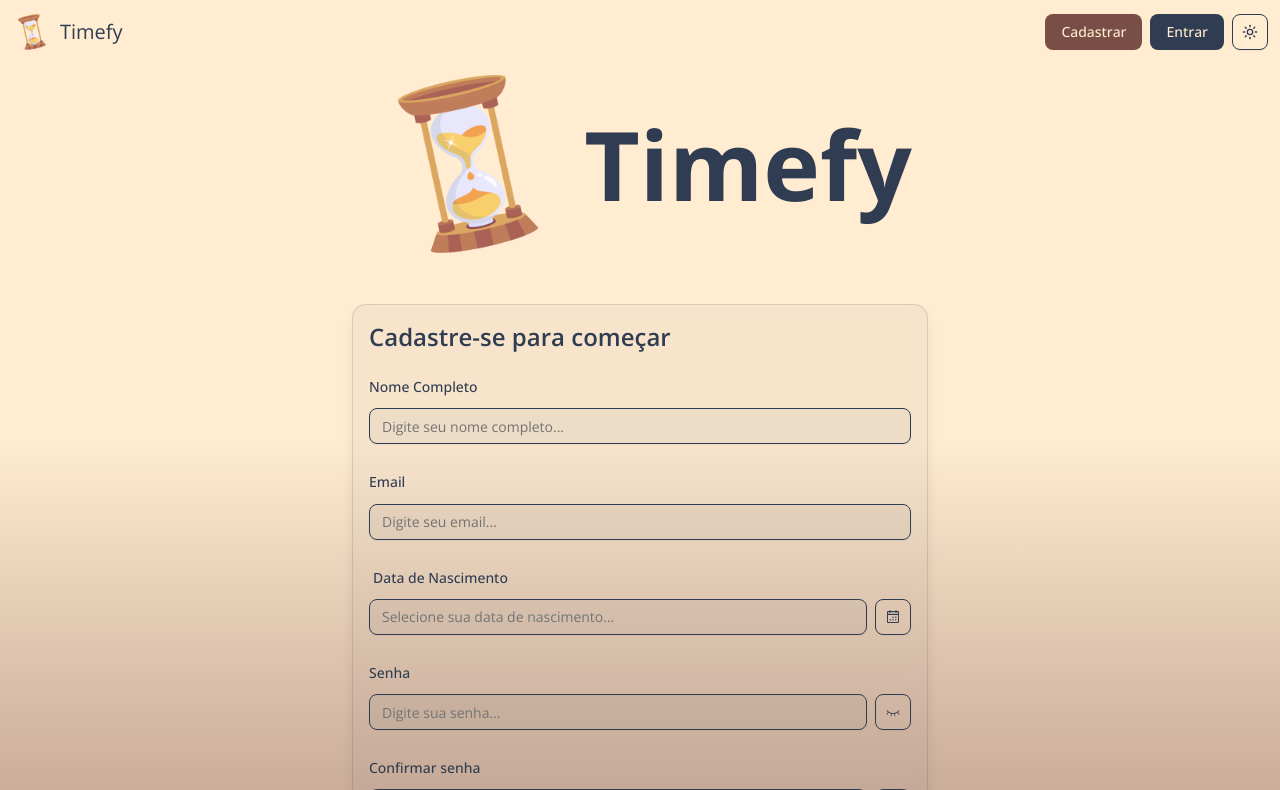
Test: SignUpPage › Form Validation › should show error when password is too short
The image size is (1280, 790).
Type "Pass1!" into the password field labelled "Senha".
click(618, 712); type("Pass1!")  # box [369,694,867,730]
(page scrolled)
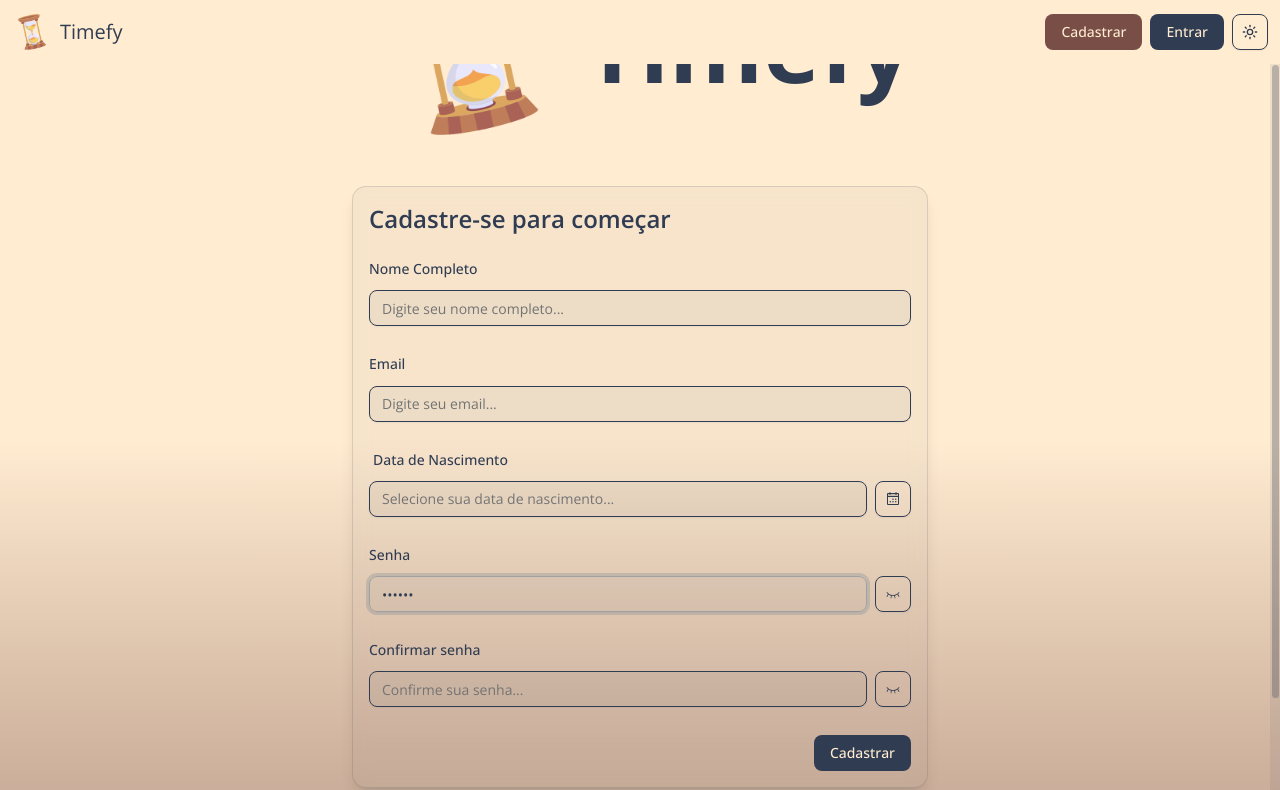
Click the 2nd button "Cadastrar".
click(862, 753)  # box [814,735,911,771]
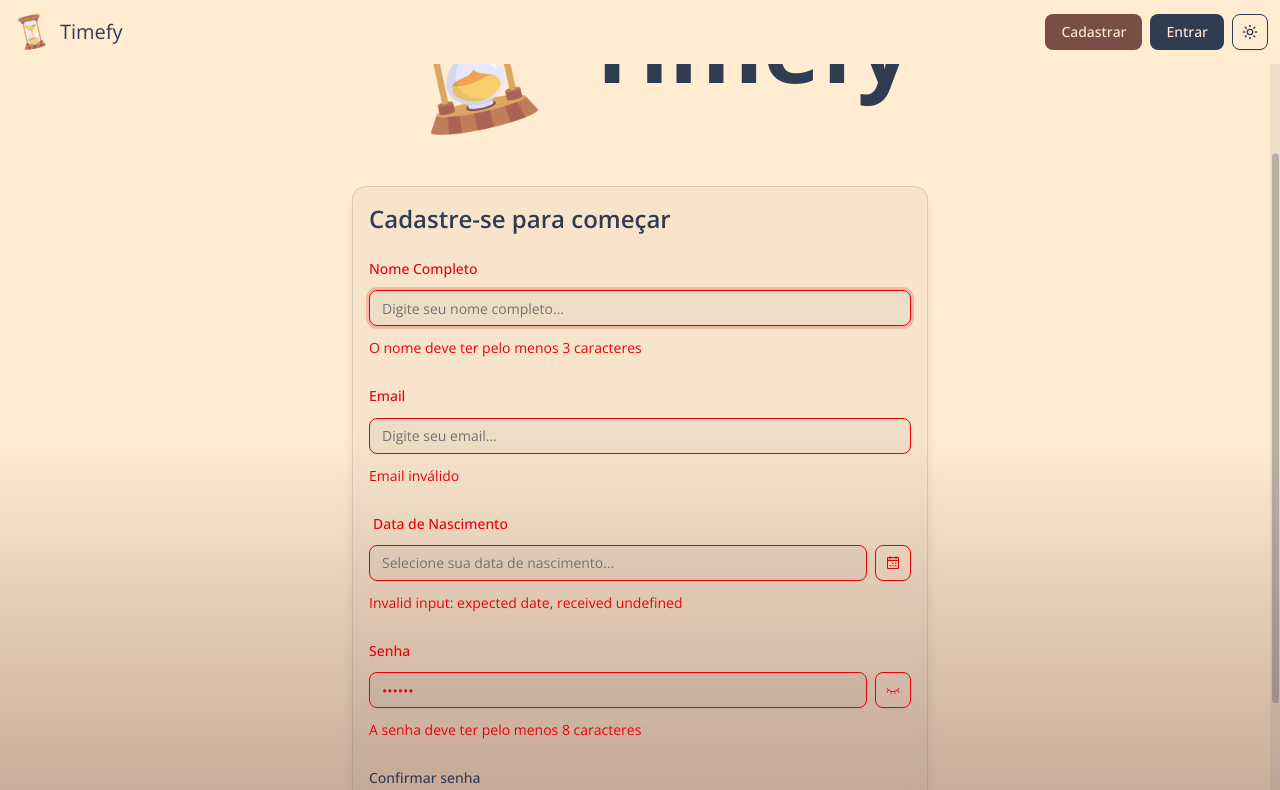
Result: the text "A senha deve ter pelo menos 8 caracteres" is shown at [369,720,641,739]
